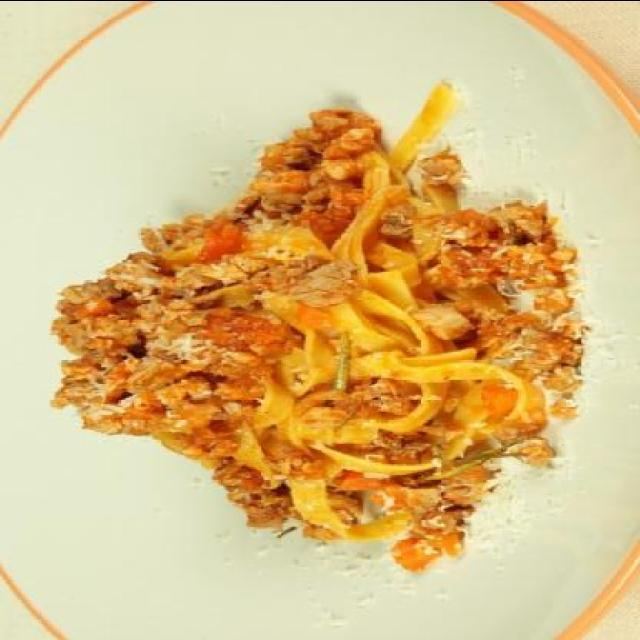Pasta al ragu: (8, 78, 594, 554)
